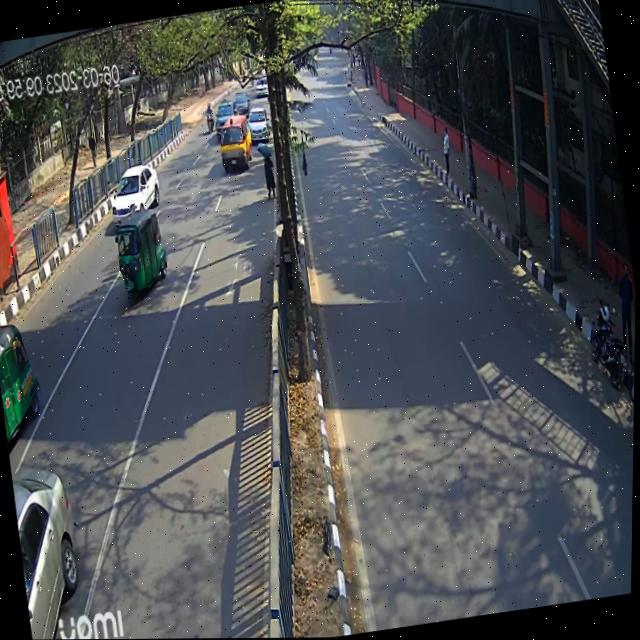cng: (109, 200, 176, 312), (0, 313, 46, 444)
